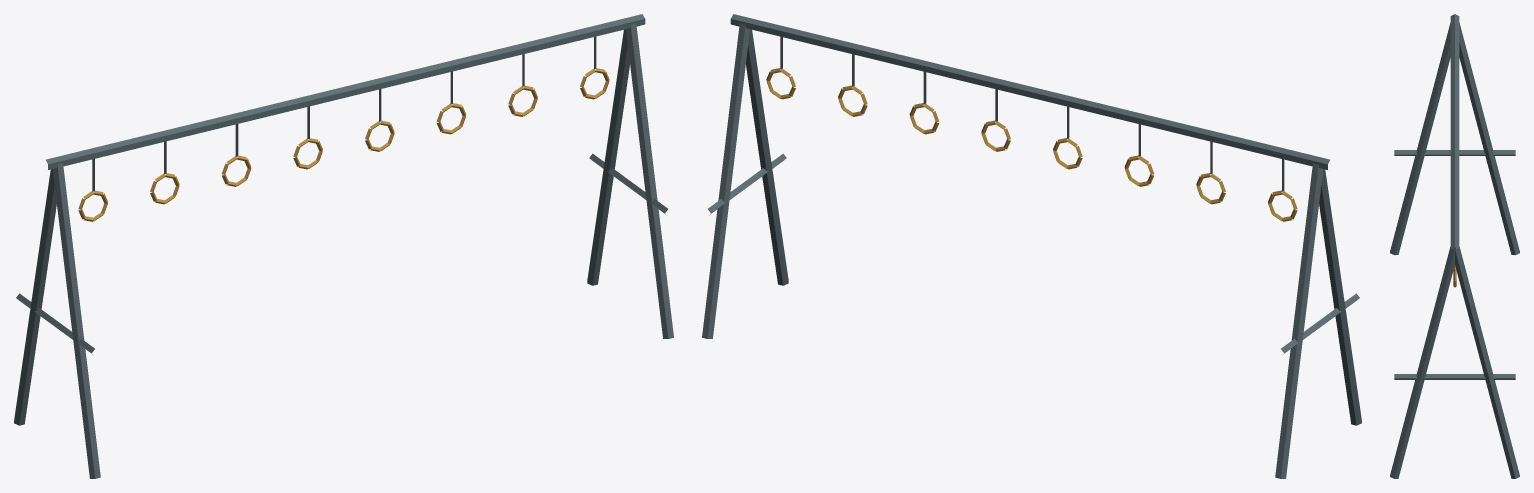
The model's file is ring-trek-PsPaPYtz.glb.
3 renders of one model, left to right at view 1: azimuth 30°, elevation 25°; view 2: azimuth 150°, elevation 25°; view 3: azimuth 270°, elevation 25°, orthographic. The views are drawn at different scales.
Visible parts, largest first — view 1: ring-trek; view 2: ring-trek; view 3: ring-trek.
Boxes of the visible parts, box(x1,y1,x2,y2) form: ring-trek: box(14, 14, 673, 478); ring-trek: box(702, 14, 1361, 478); ring-trek: box(1390, 14, 1519, 478).
Bounding box in the file's own units: 5 × 2.35 × 1.18.
